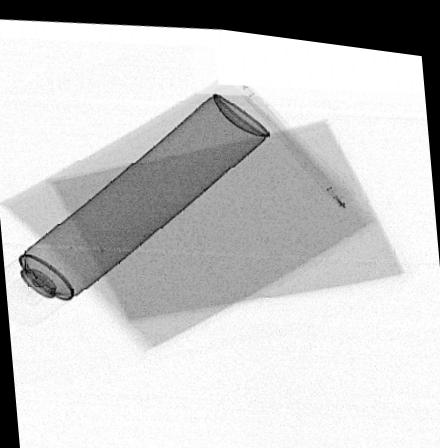Sprayer: (5, 84, 271, 329)
